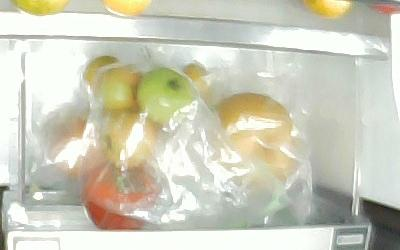peach_vinyl: (50, 118, 103, 178)
pear_vinyl: (215, 92, 296, 184)
tangerine_vinyl: (83, 55, 118, 90), (185, 62, 210, 96)
tomato_vinyl: (82, 161, 162, 229), (98, 108, 159, 168), (135, 65, 195, 124), (92, 64, 143, 112)
